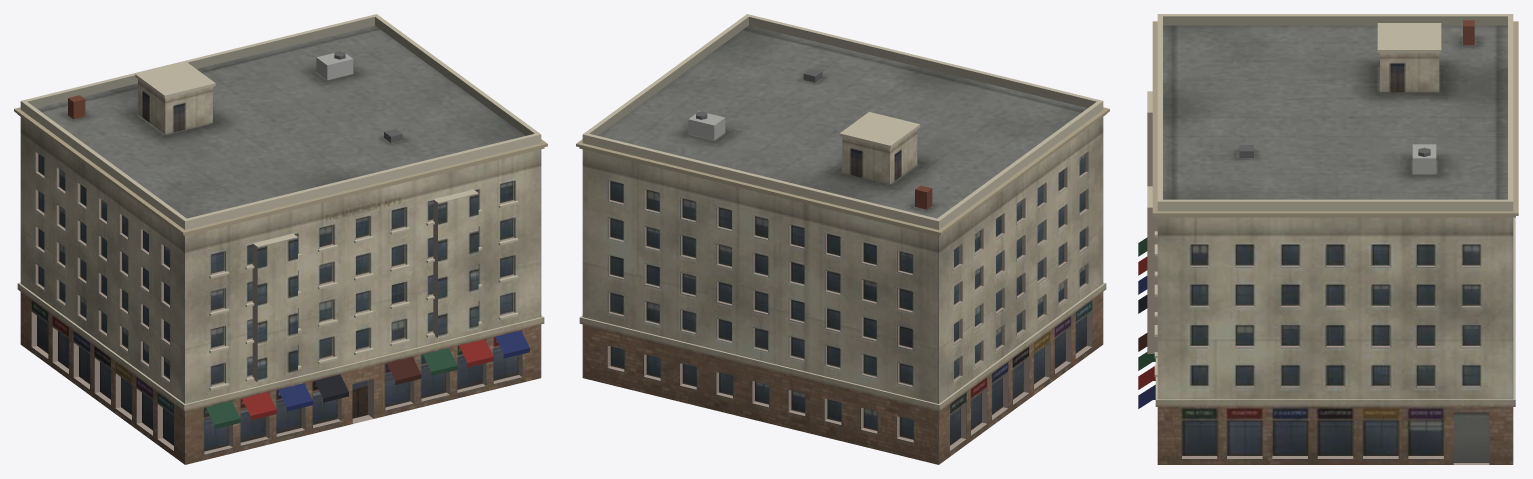
Rendered from seattle_belltown_b.glb.
3 views of the same model, side by side, from view 1: azimuth 30°, elevation 25°; view 2: azimuth 150°, elevation 25°; view 3: azimuth 270°, elevation 25° (orthographic). The views are drawn at different scales.
Parts seen in each view (by area): view 1: seattle_belltown_b; view 2: seattle_belltown_b; view 3: seattle_belltown_b.
Boxes of the visible parts, box(x1,y1,x2,y2) form: seattle_belltown_b: box(14, 14, 547, 464); seattle_belltown_b: box(576, 14, 1109, 464); seattle_belltown_b: box(1138, 14, 1518, 464).
Bounding box in the file's own units: 30.7 × 22.12 × 25.65.
Materials: 1 (1 with a texture image).
